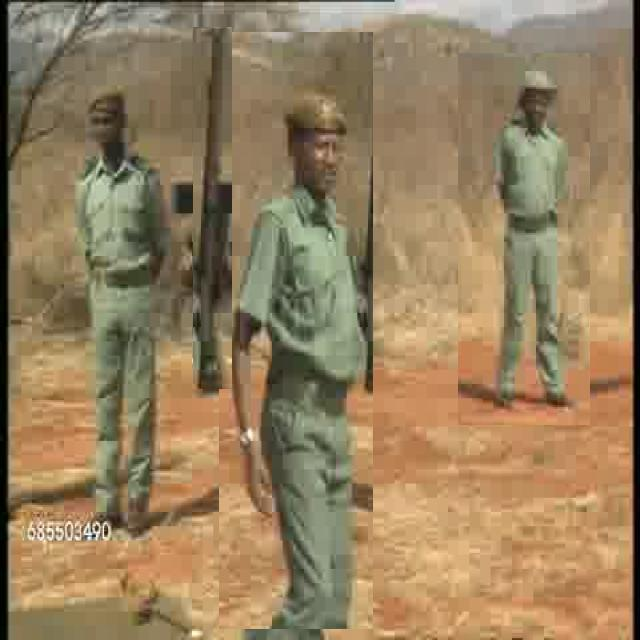poacher: (219, 32, 373, 629), (458, 53, 590, 425), (64, 89, 171, 546)
weapon: (193, 27, 232, 389)
